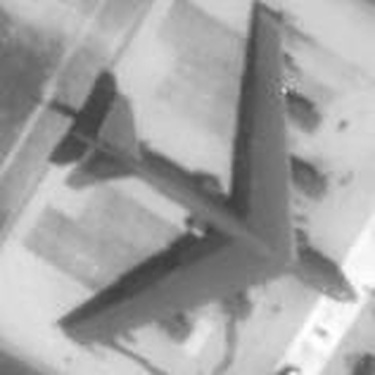airplane: (46, 1, 369, 357)
